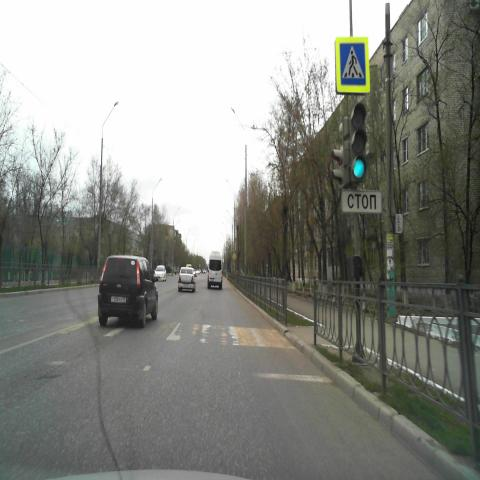5_19_1: (336, 36, 371, 93)
6_16: (341, 190, 383, 214)
